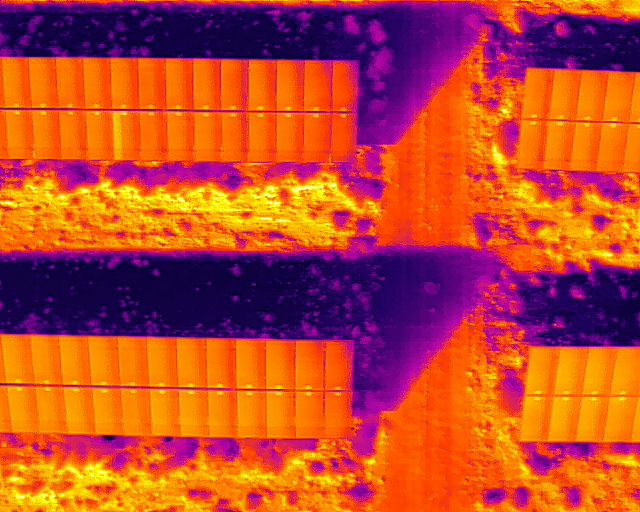photovoltaic_panels: (0, 55, 359, 164), (0, 333, 352, 439), (515, 66, 640, 172), (518, 346, 640, 443)
stripe_spot: (111, 111, 140, 161)
